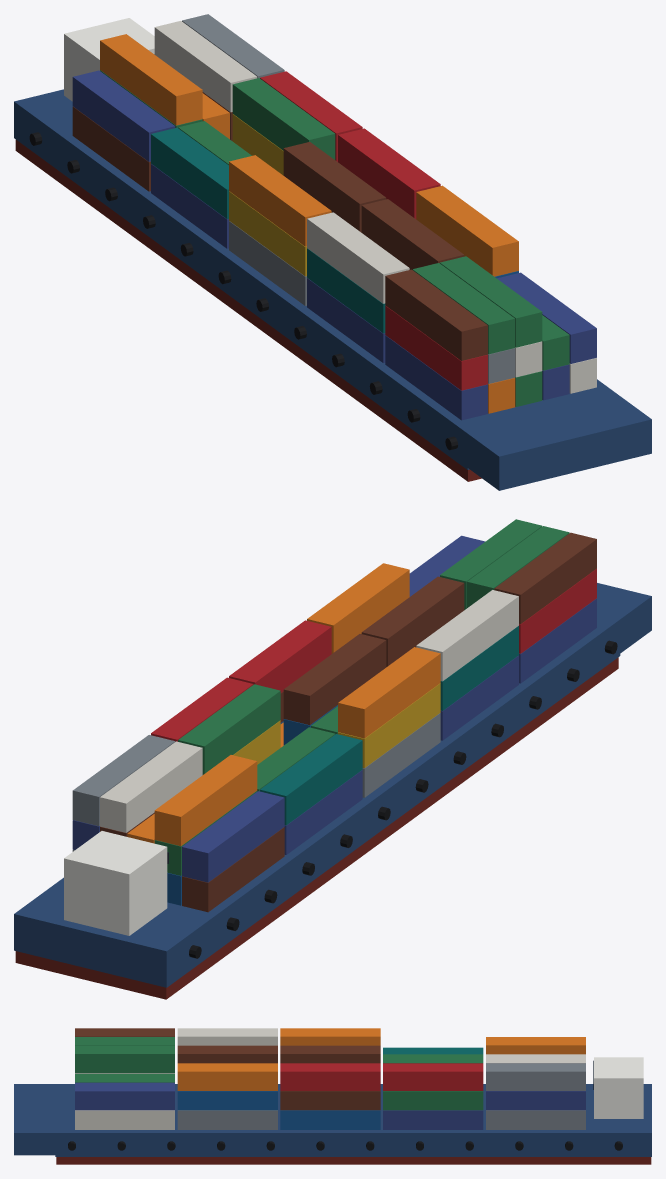
Rendered from container_barge_a.glb.
3 views of the same model, one above another, from view 1: azimuth 30°, elevation 25°; view 2: azimuth 150°, elevation 25°; view 3: azimuth 270°, elevation 25° (orthographic). The views are drawn at different scales.
Visible parts, largest first — view 1: barge; view 2: barge; view 3: barge.
Boxes of the visible parts, <box> form: barge: <box>14,14,651,490</box>; barge: <box>14,519,651,999</box>; barge: <box>14,1028,651,1164</box>.
Size of the model in its own units: 15.2 by 12.08 by 77.
